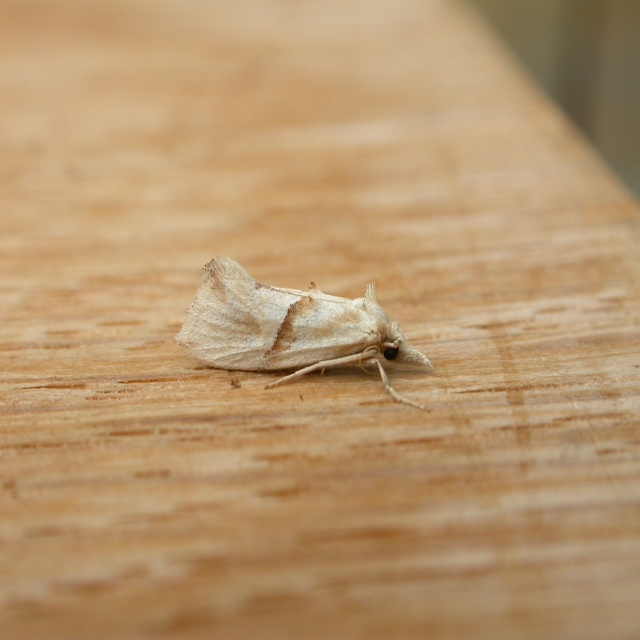Moths and butterflies: (173, 253, 437, 416)
